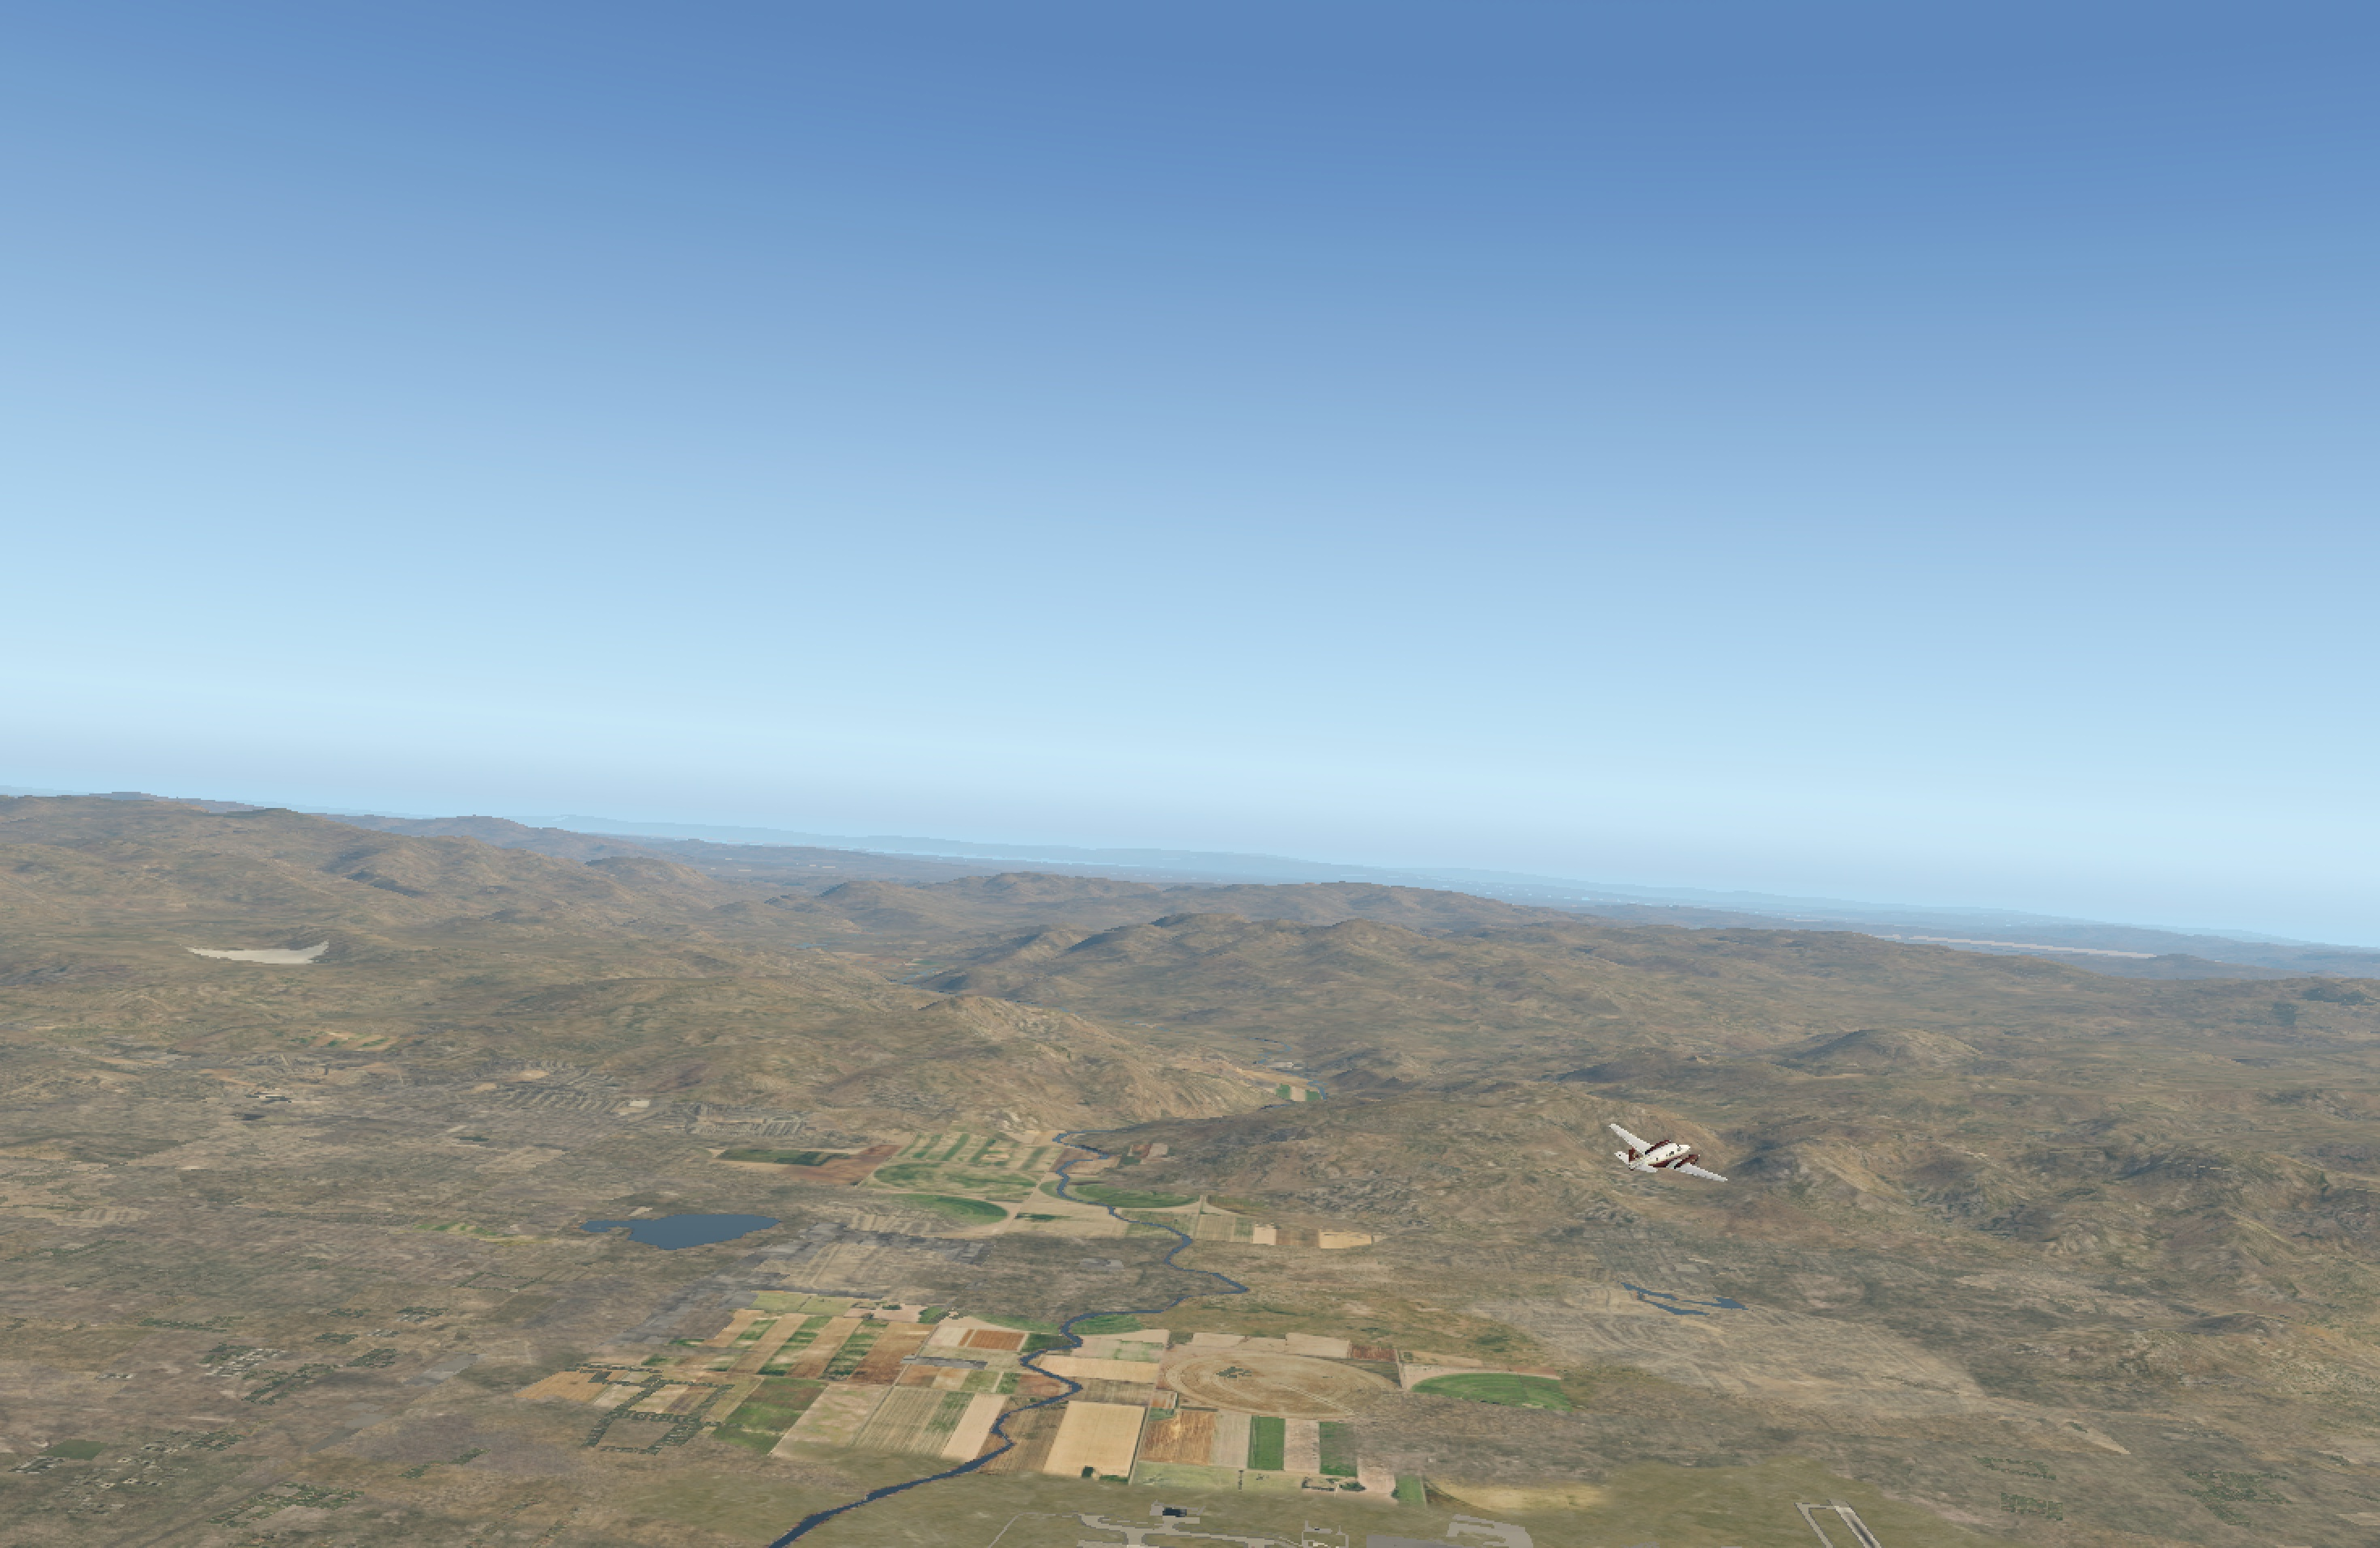aircraft: (1599, 1133, 1738, 1185)
